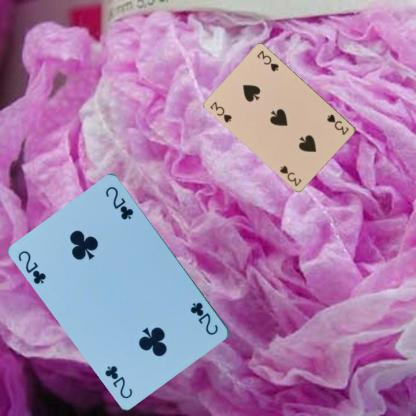2c: (16, 248, 48, 286), (188, 300, 220, 336)
3s: (207, 98, 233, 124), (325, 112, 350, 136)
